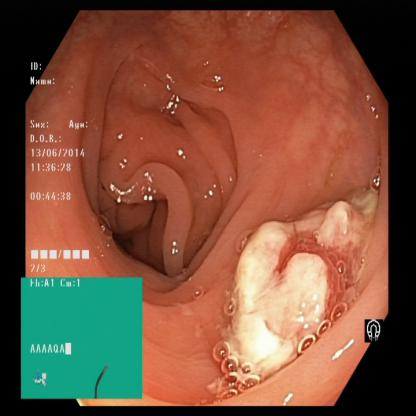Labels: (25, 56, 102, 277), (22, 276, 140, 402)
Polyps: (235, 234, 336, 348)
